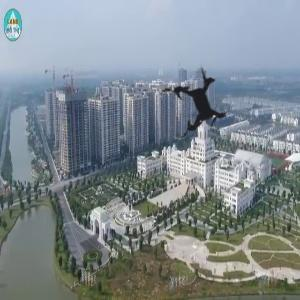drone: (137, 46, 259, 168)
